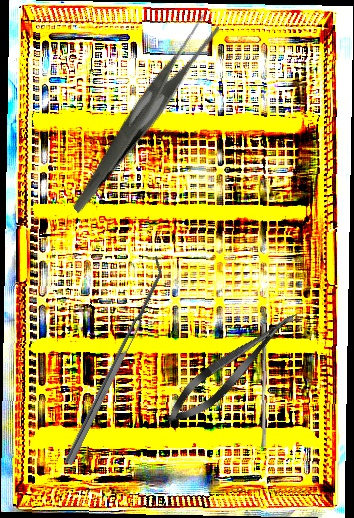Dressing Forceps: (26, 10, 259, 215)
Micro Scissor: (157, 301, 308, 434)
Pusher: (256, 323, 271, 448)
Spatula Surgical: (56, 255, 171, 466)
